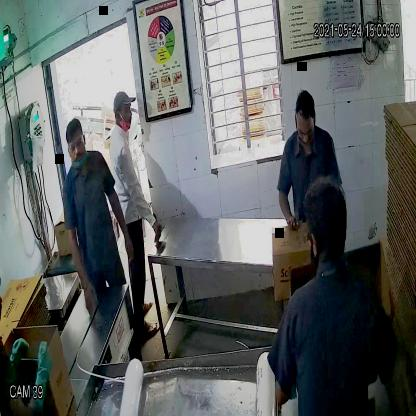goggles: (63, 135, 86, 156)
